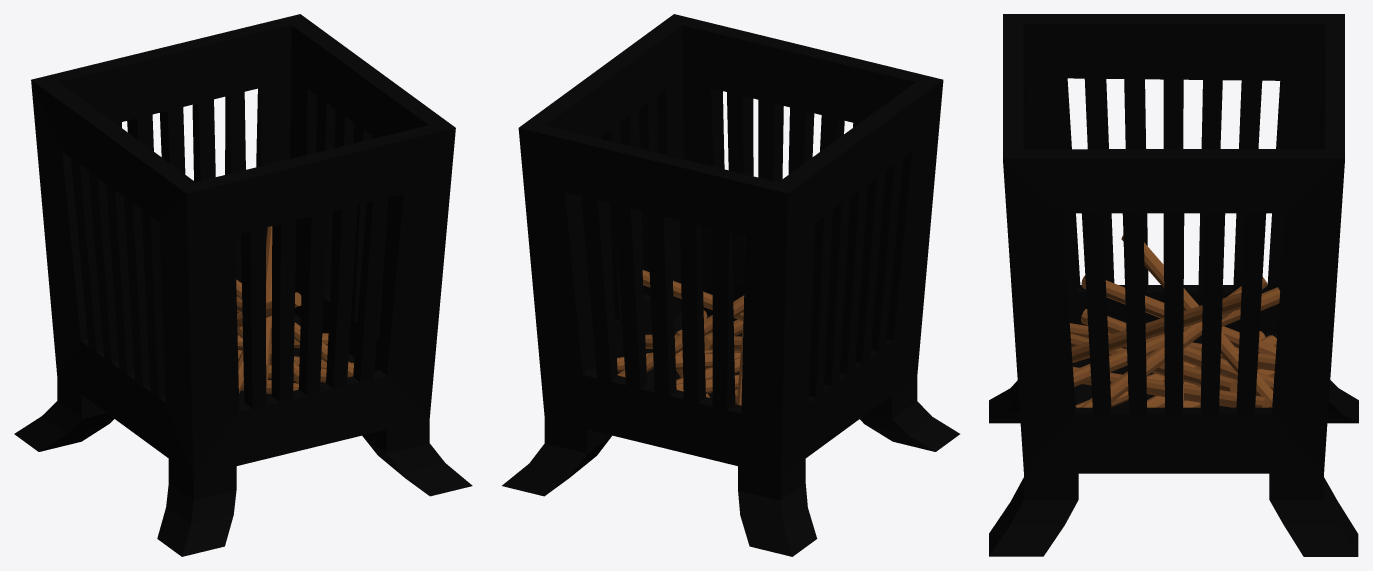
File: Fire_Bin_low.fbx
The picture shows the model from 3 angles, left to right: view 1: azimuth 30°, elevation 25°; view 2: azimuth 150°, elevation 25°; view 3: azimuth 270°, elevation 25°; orthographic projection. The views are drawn at different scales.
Visible parts, largest first — view 1: FireBin_low; view 2: FireBin_low; view 3: FireBin_low.
Part boxes in pixels (box(x1,y1,x2,y2)): FireBin_low: box(14, 14, 472, 556); FireBin_low: box(502, 14, 959, 556); FireBin_low: box(989, 14, 1358, 556).
Size of the model in its own units: 61.37 by 71.77 by 61.3.
